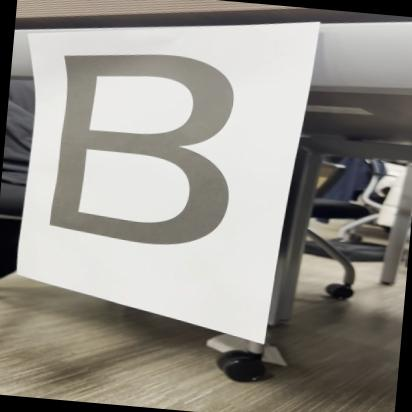seat: (34, 41, 258, 270)
